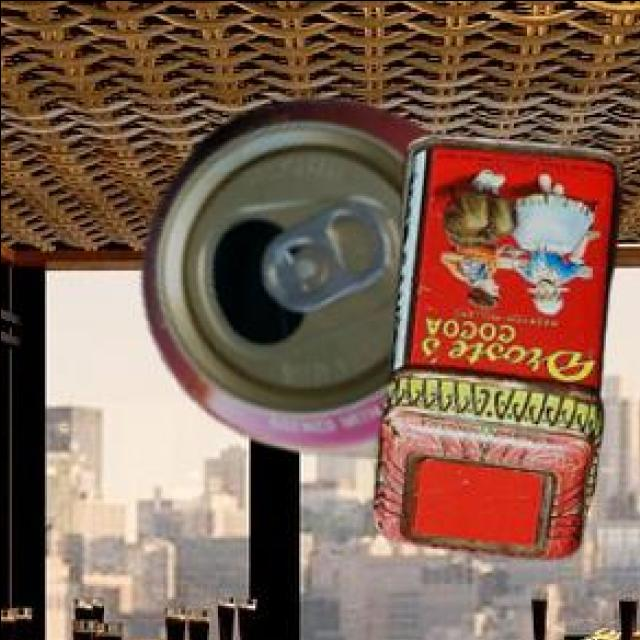logam: (369, 130, 619, 553), (139, 95, 424, 453)
